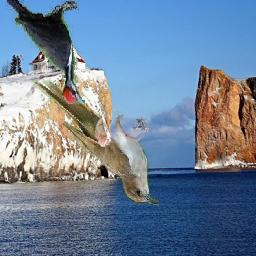Cuckoo: (33, 79, 160, 205)
Woodpecker: (5, 0, 85, 105)
